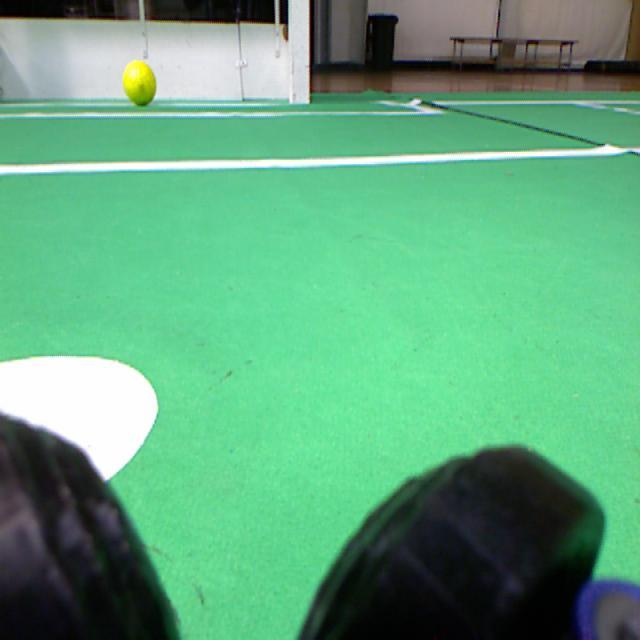ball: (123, 60, 155, 104)
goal: (288, 0, 309, 103)
